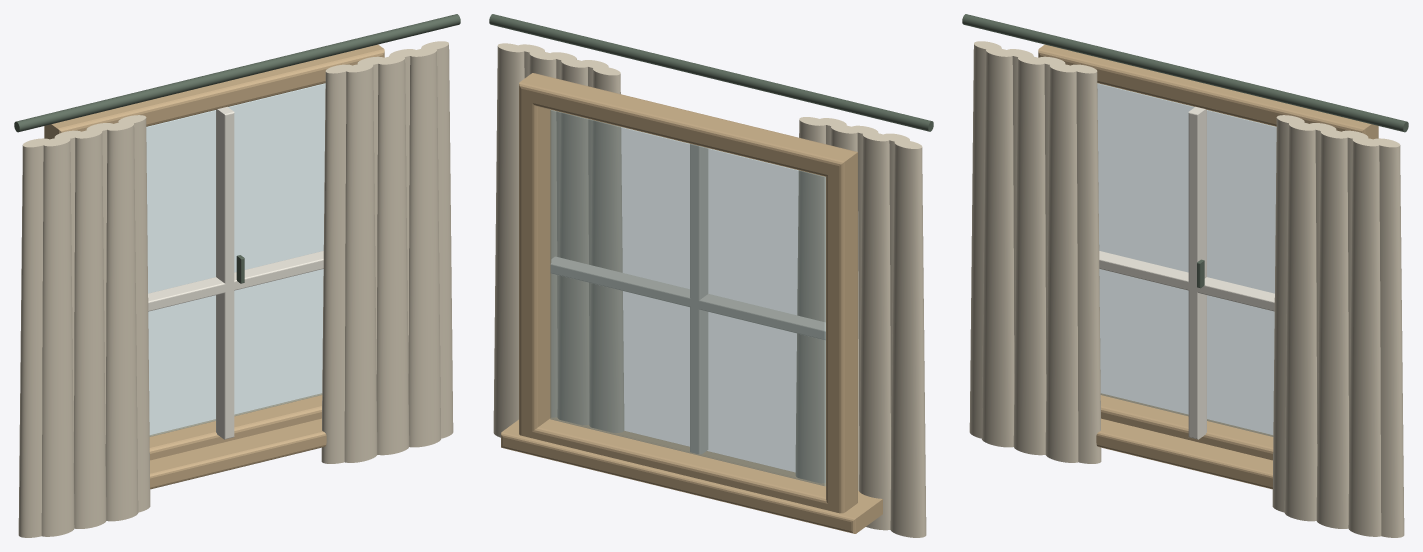
Rendered from curtains.glb.
The picture shows the model from 3 angles, left to right: view 1: azimuth 30°, elevation 25°; view 2: azimuth 150°, elevation 25°; view 3: azimuth 330°, elevation 25°; orthographic projection.
Visible parts, largest first — view 1: Linen curtain fold (×14), Glass, Horizontal frame (×2), Mullion, Curtain rail, Deep sill, Crossbar; view 2: Glass, Linen curtain fold (×12), Vertical frame (×2), Horizontal frame (×2), Deep sill, Mullion, Curtain rail, Crossbar; view 3: Linen curtain fold (×14), Glass, Horizontal frame (×2), Mullion, Curtain rail, Deep sill, Crossbar.
Boxes of the visible parts, x1=… form: Linen curtain fold (×14): x1=18, y1=41, x2=453, y2=537; Glass: x1=146, y1=83, x2=325, y2=436; Horizontal frame (×2): x1=44, y1=44, x2=384, y2=460; Mullion: x1=216, y1=106, x2=234, y2=439; Curtain rail: x1=14, y1=14, x2=460, y2=132; Deep sill: x1=150, y1=418, x2=326, y2=489; Crossbar: x1=148, y1=251, x2=323, y2=311; Glass: x1=550, y1=110, x2=825, y2=486; Linen curtain fold (×12): x1=493, y1=43, x2=926, y2=537; Vertical frame (×2): x1=519, y1=85, x2=857, y2=513; Horizontal frame (×2): x1=519, y1=73, x2=857, y2=512; Deep sill: x1=501, y1=417, x2=882, y2=533; Mullion: x1=690, y1=144, x2=708, y2=454; Curtain rail: x1=489, y1=14, x2=933, y2=131; Crossbar: x1=550, y1=256, x2=825, y2=340; Linen curtain fold (×14): x1=969, y1=41, x2=1404, y2=537; Glass: x1=1097, y1=83, x2=1276, y2=436; Horizontal frame (×2): x1=1038, y1=44, x2=1378, y2=460; Mullion: x1=1188, y1=106, x2=1206, y2=439; Curtain rail: x1=962, y1=14, x2=1408, y2=132; Deep sill: x1=1096, y1=418, x2=1272, y2=489; Crossbar: x1=1099, y1=251, x2=1274, y2=311.
Bounding box in the file's own units: 1.66 × 1.5 × 0.2758.
